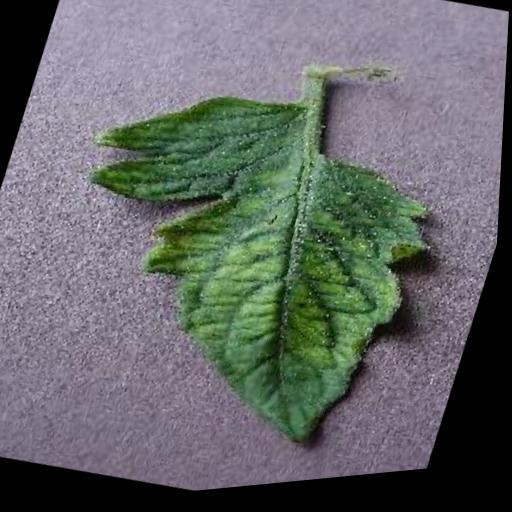Mosaic Virus: (13, 44, 470, 494)
